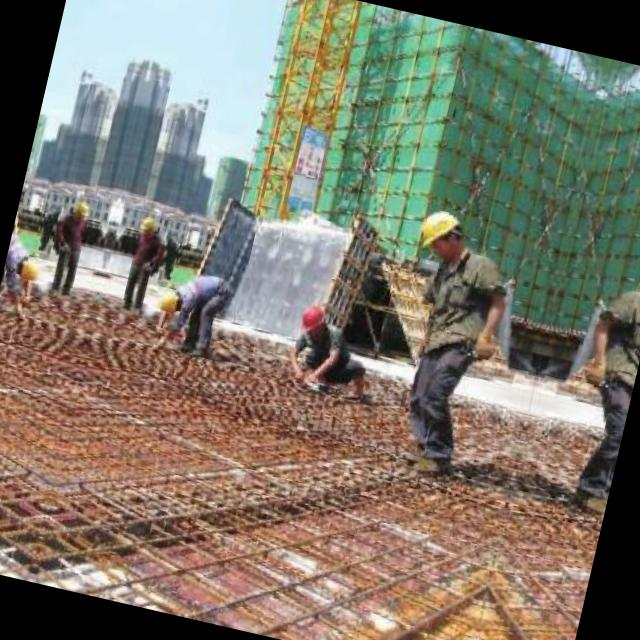helmet: (408, 203, 468, 261), (294, 296, 331, 341), (150, 288, 179, 316), (15, 256, 44, 284), (69, 197, 94, 225), (132, 212, 156, 240)
